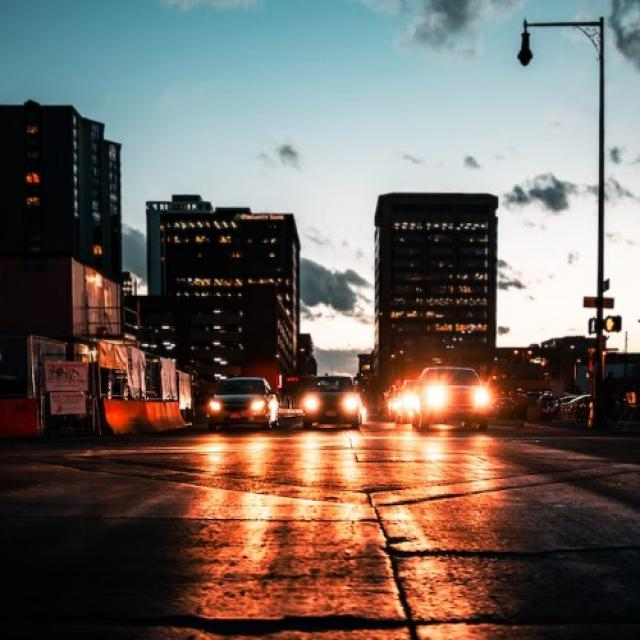car: (412, 366, 489, 434), (207, 375, 279, 430), (301, 374, 362, 428)
